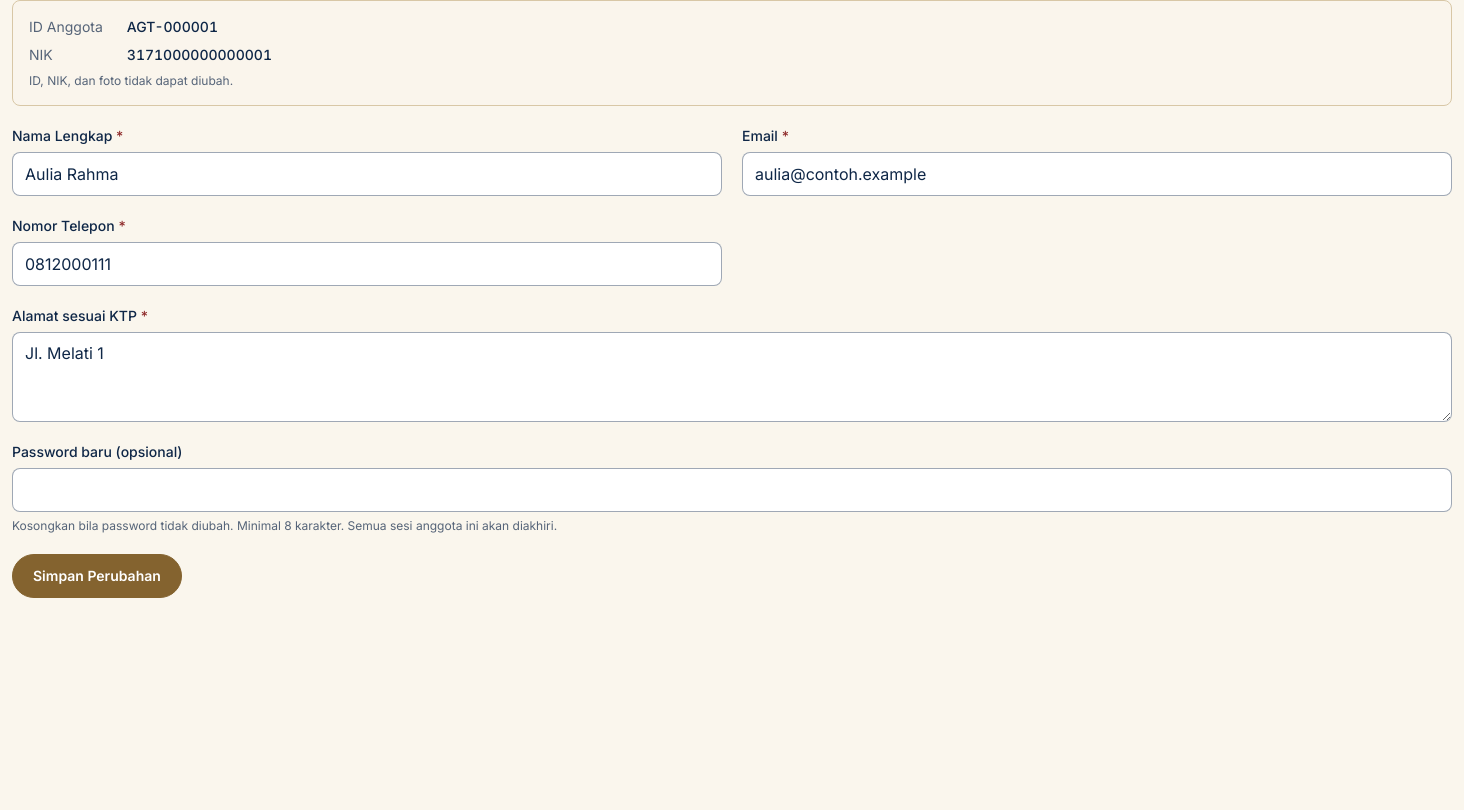
Test case: Form ubah anggota (FR-AKN-11, K-03, K-05, OQ-32) › K_06_email_duplikat_pesan_backend_per_isian_apa_adanya
Click the button "Simpan Perubahan": click(97, 576) [12, 554, 182, 598]
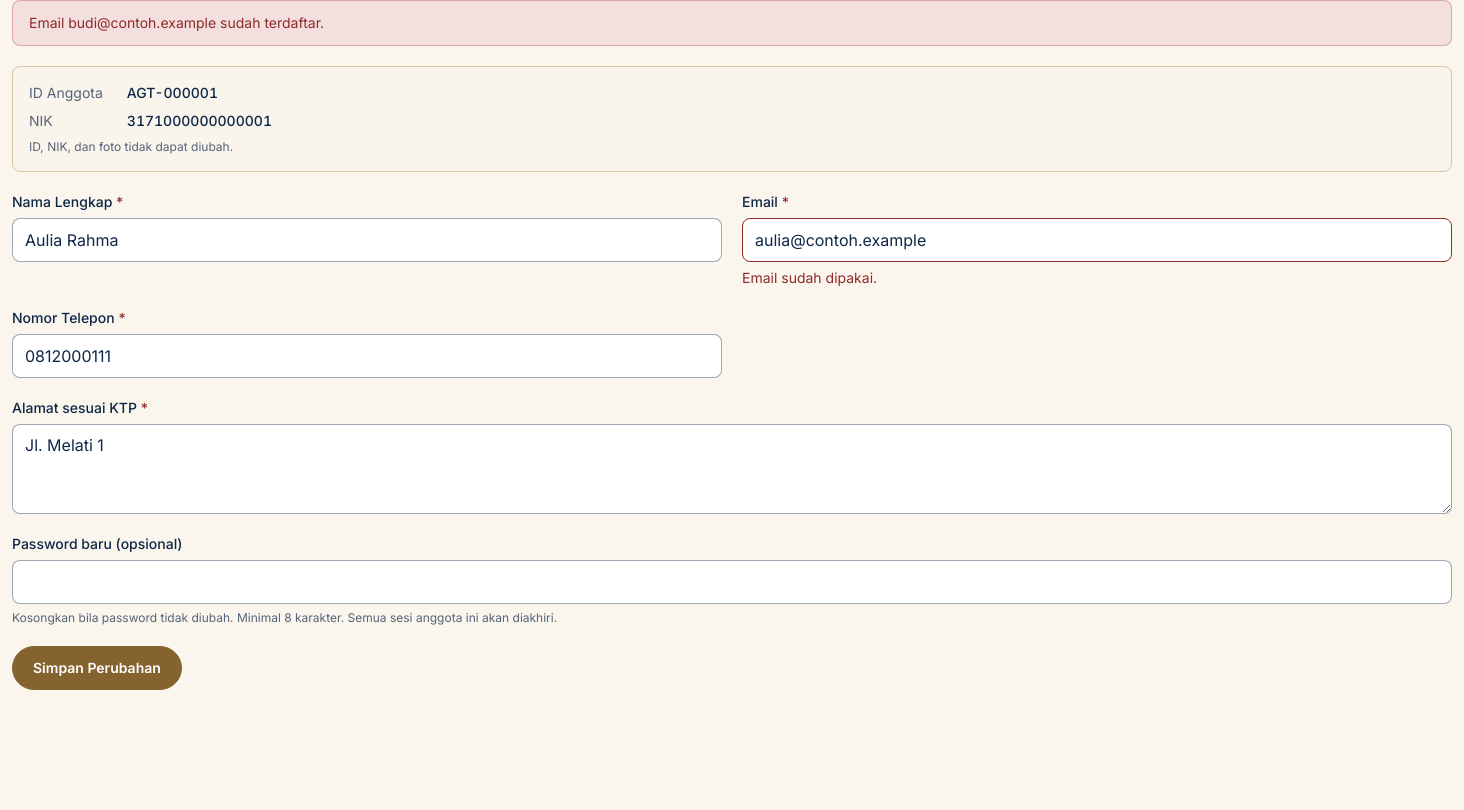
Expected: the message reads "Email budi@contoh.example sudah terdaftar.", [29, 14, 324, 31]
Expected: the text "Email sudah dipakai." is shown, [742, 269, 877, 286]
